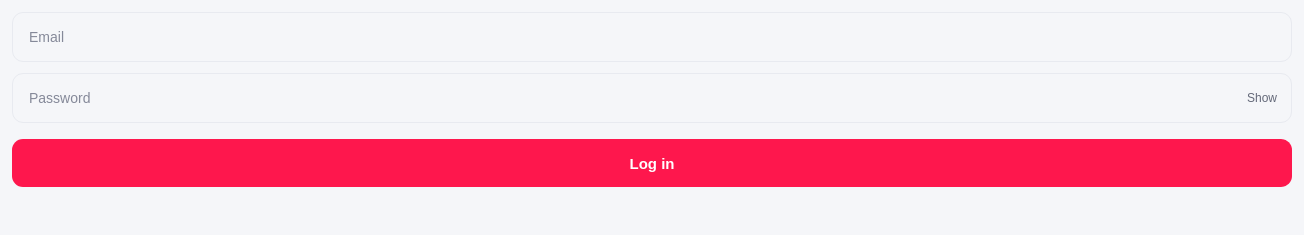
Scenario: LoginForm › shows the server's error for wrong credentials
The image size is (1304, 235).
Type "alice@test.com" into the field with placeholder "Email" at (652, 37), box [12, 12, 1292, 62]
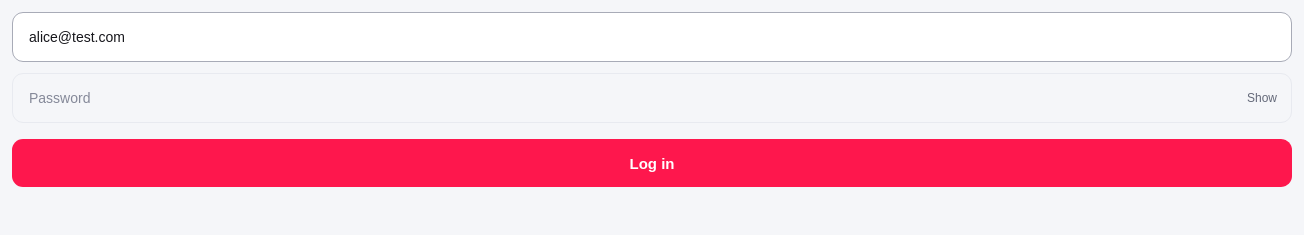
Type "wrong-pass" into the password field with placeholder "Password" at (652, 98), box [12, 73, 1292, 123]
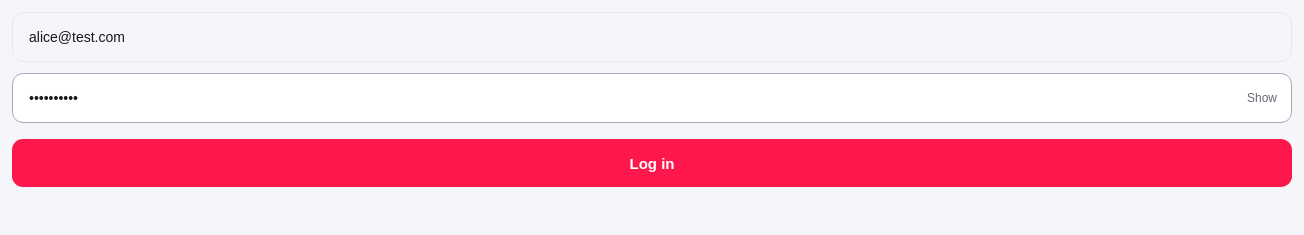
Click the button "Log in" at (652, 163), box [12, 139, 1292, 187]
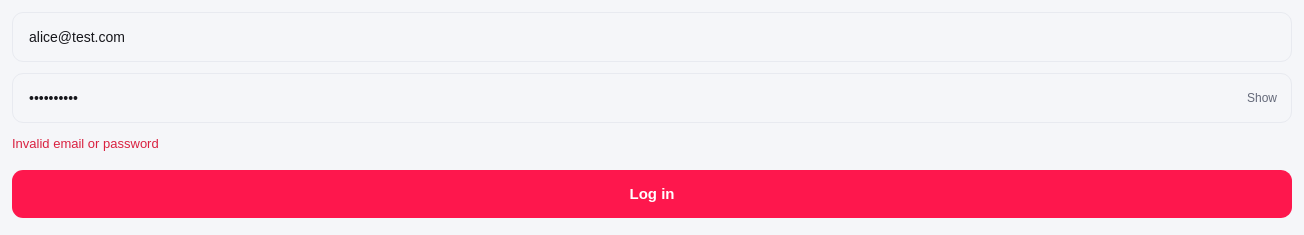
Expected: the message reads "Invalid email or password", [12, 136, 159, 151]
